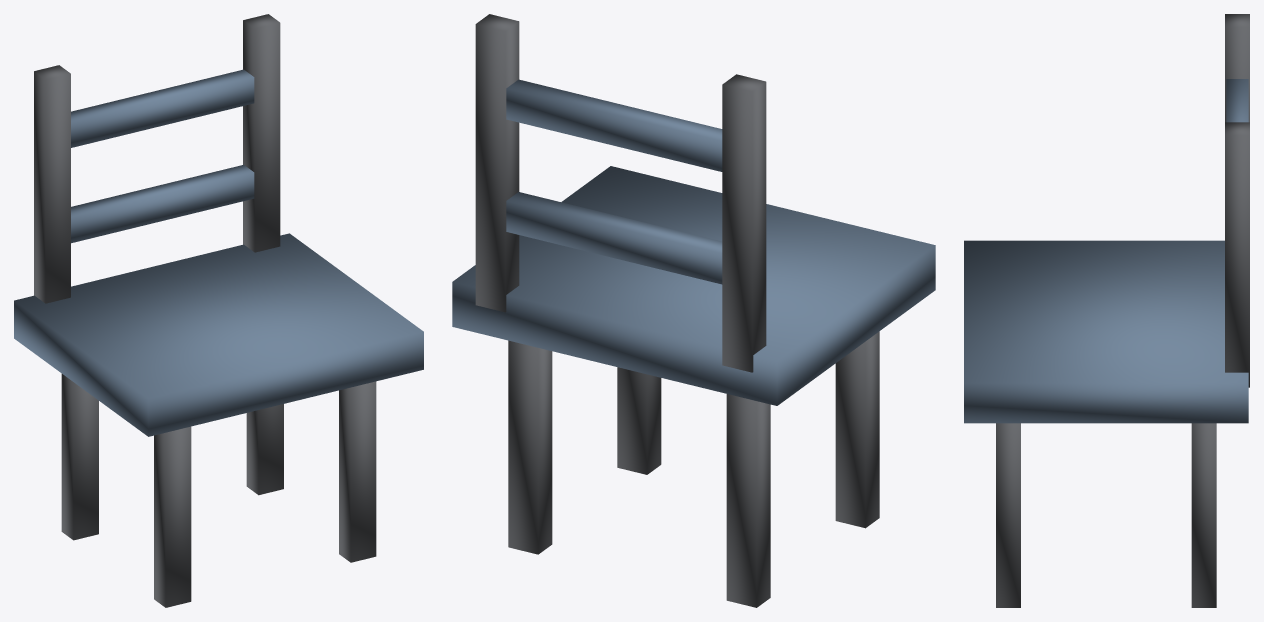
Rendered from courtroom_spectator_chair__wide.glb.
3 views of the same model, side by side, from view 1: azimuth 30°, elevation 25°; view 2: azimuth 150°, elevation 25°; view 3: azimuth 270°, elevation 25° (orthographic). The views are drawn at different scales.
Parts seen in each view (by area): view 1: world; view 2: world; view 3: world.
Part boxes in pixels (left/top/right/bottom): world: left=14, top=14, right=423, bottom=607; world: left=452, top=14, right=935, bottom=607; world: left=964, top=14, right=1249, bottom=607.
Bounding box in the file's own units: 0.6051 × 0.949 × 0.5136.
